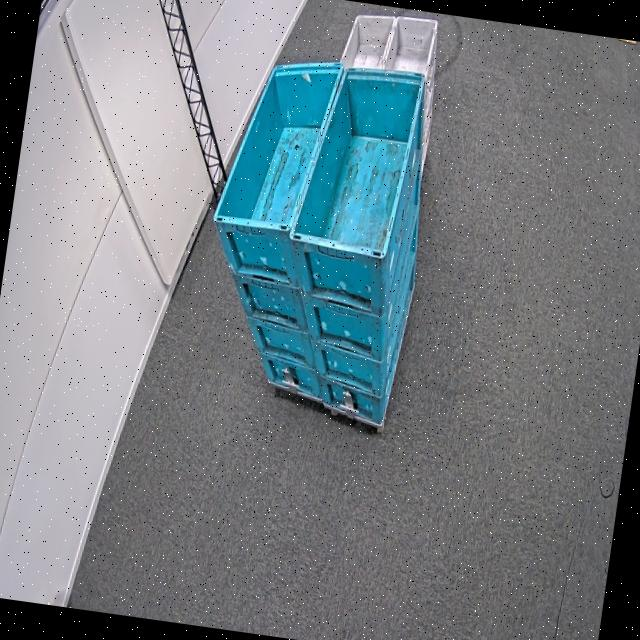Roll4G: (336, 4, 442, 87)
RollB4: (287, 56, 430, 260), (210, 46, 346, 238)
